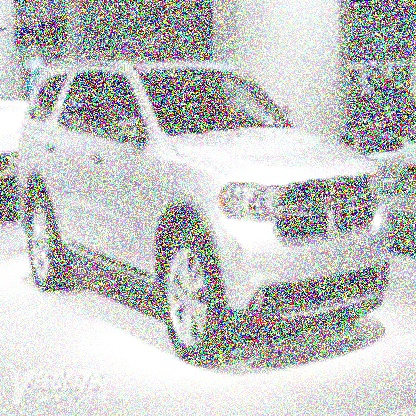Vehicle: (16, 51, 392, 368)
